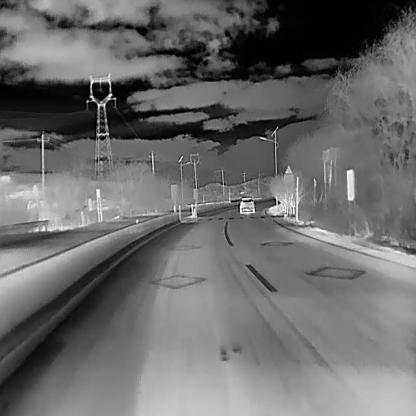car: (238, 195, 254, 214)
